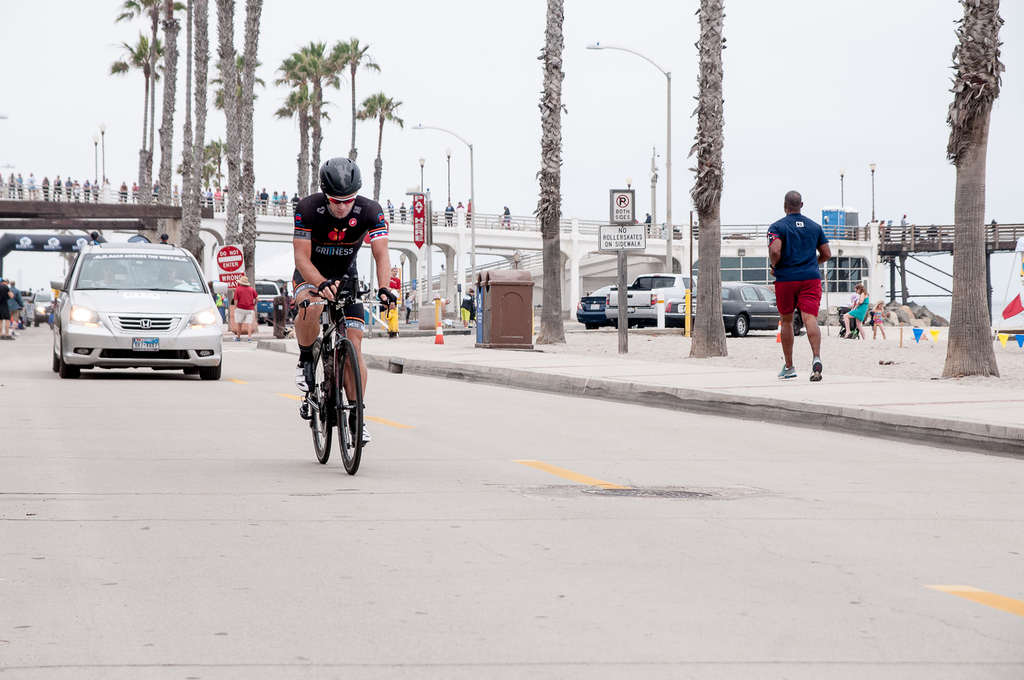Bike: (295, 275, 397, 475)
